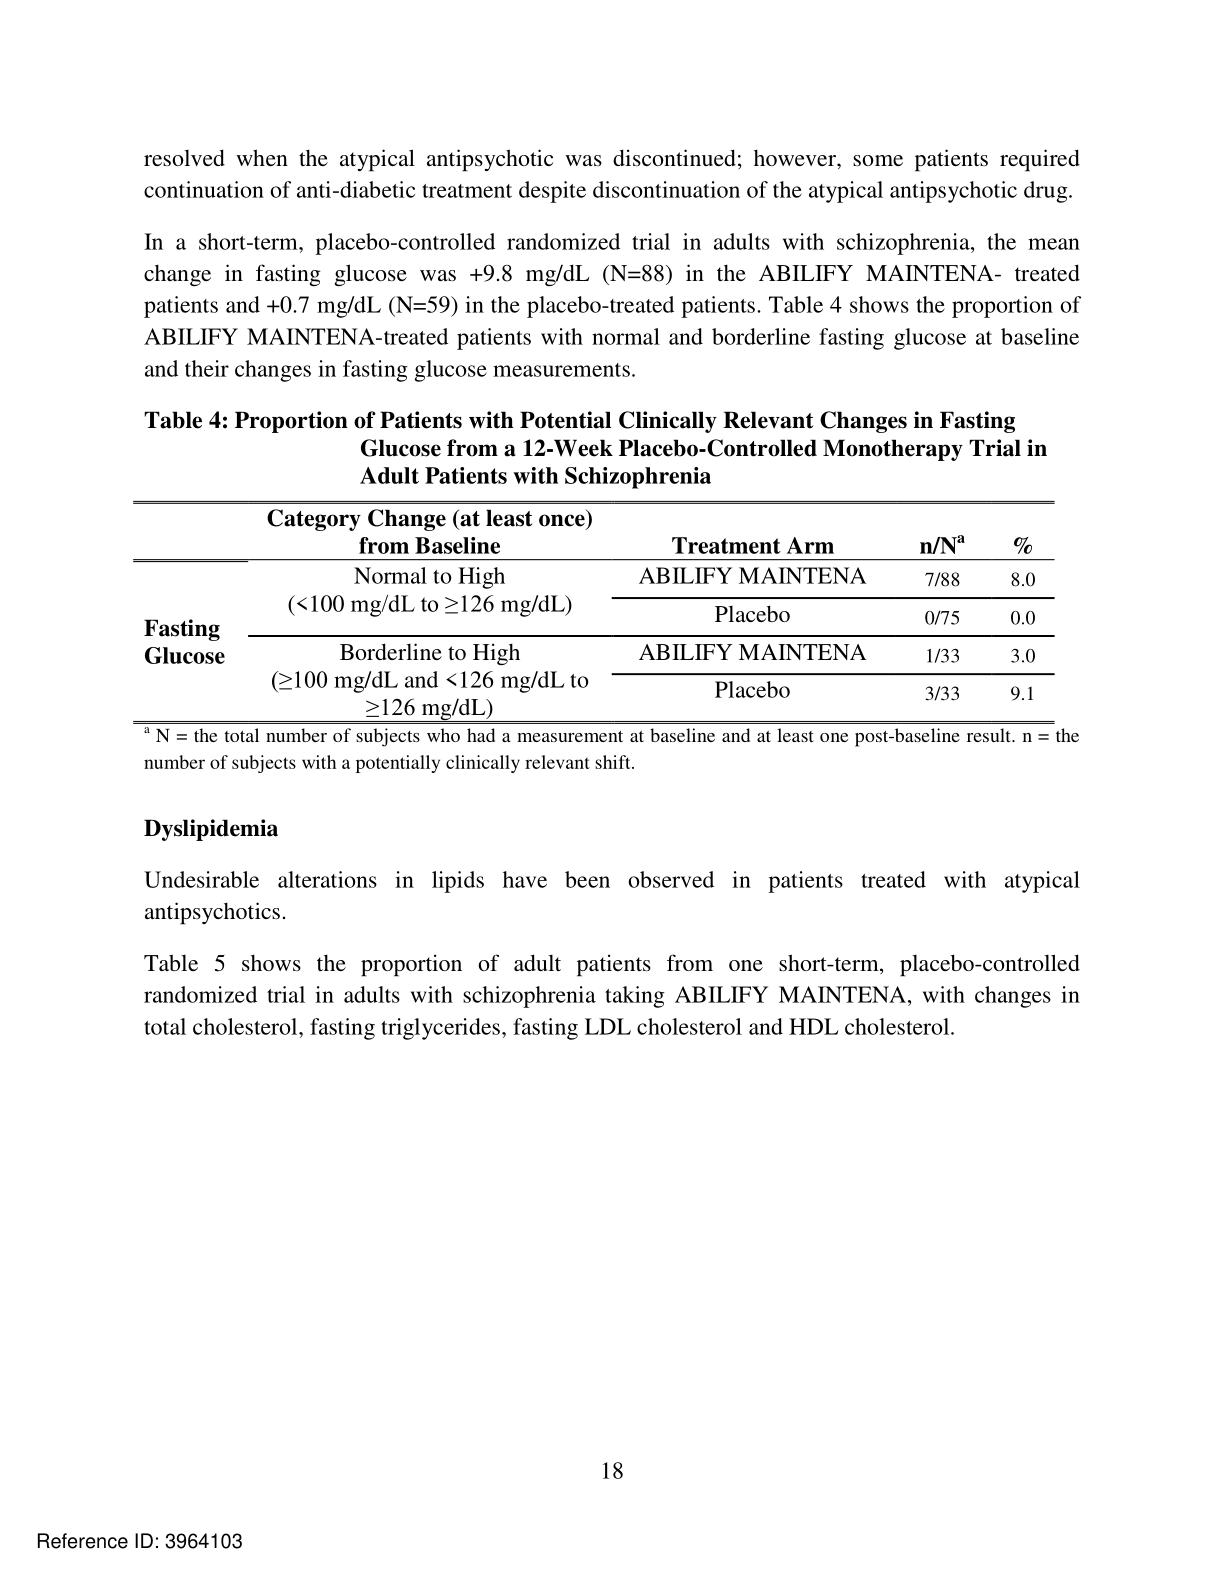partial_lined_merged_cells: (132, 500, 1056, 725)
